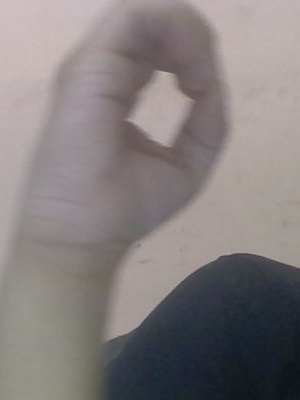O: (14, 3, 245, 265)
